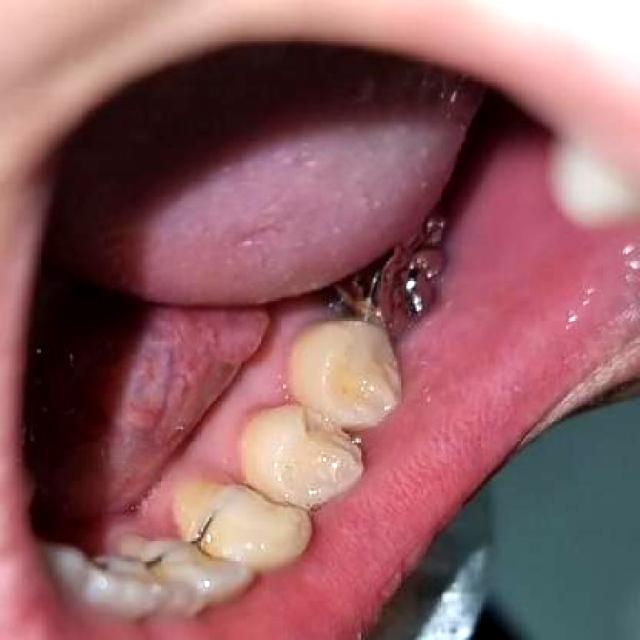Plaque: (226, 401, 282, 460), (142, 497, 196, 554), (328, 372, 371, 410)
